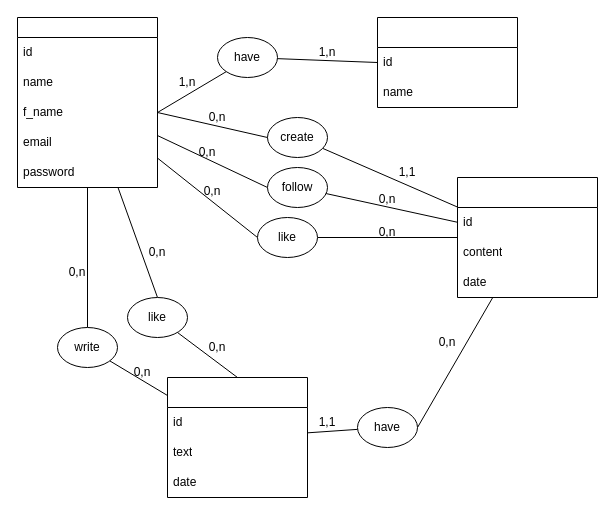
Image size: 615x515. Some labels were removed from this diagram. The shapes that lost their labels are listed below. From the top down, each one's box as (x1, y1, x2, y2) in pixels, then its label:
(376, 16, 518, 108): role
(16, 16, 158, 188): dbuser
(456, 176, 598, 298): publication
(166, 376, 308, 498): comment
